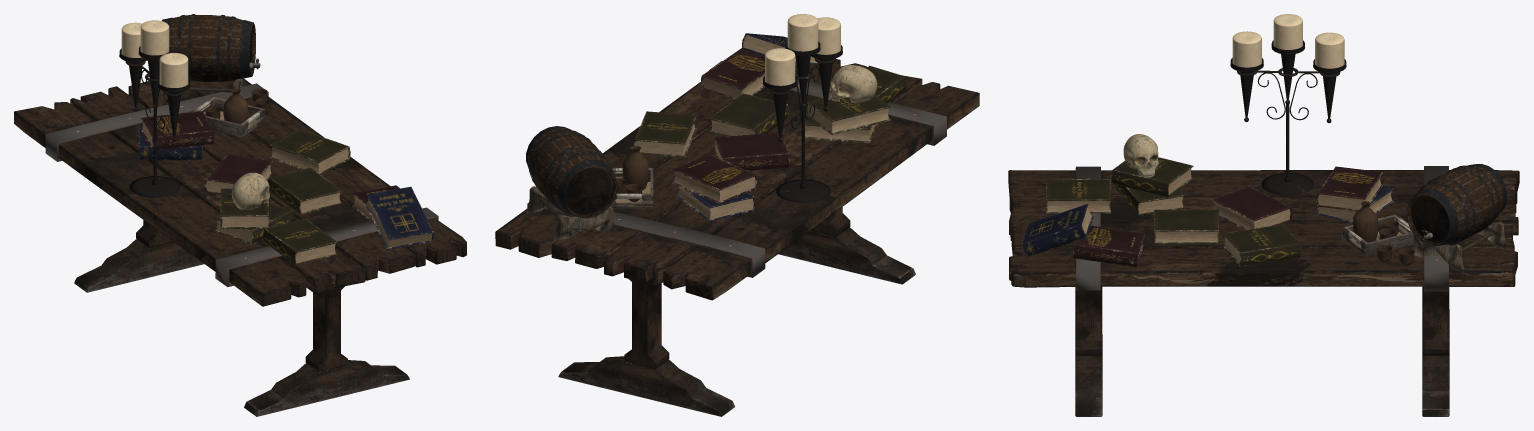
File: mesa-alquimista.glb
3 views of the same model, side by side, from view 1: azimuth 30°, elevation 25°; view 2: azimuth 150°, elevation 25°; view 3: azimuth 270°, elevation 25° (orthographic). The views are drawn at different scales.
Visible parts, largest first — view 1: SM_CombinedTable; view 2: SM_CombinedTable; view 3: SM_CombinedTable.
Part boxes in pixels (x1,y1,x2,y2): SM_CombinedTable: [14, 14, 466, 416]; SM_CombinedTable: [495, 14, 979, 416]; SM_CombinedTable: [1008, 14, 1519, 416].
Size of the model in its own units: 1.29 by 1.84 by 2.63.
Materials: 8 (8 with a texture image).
